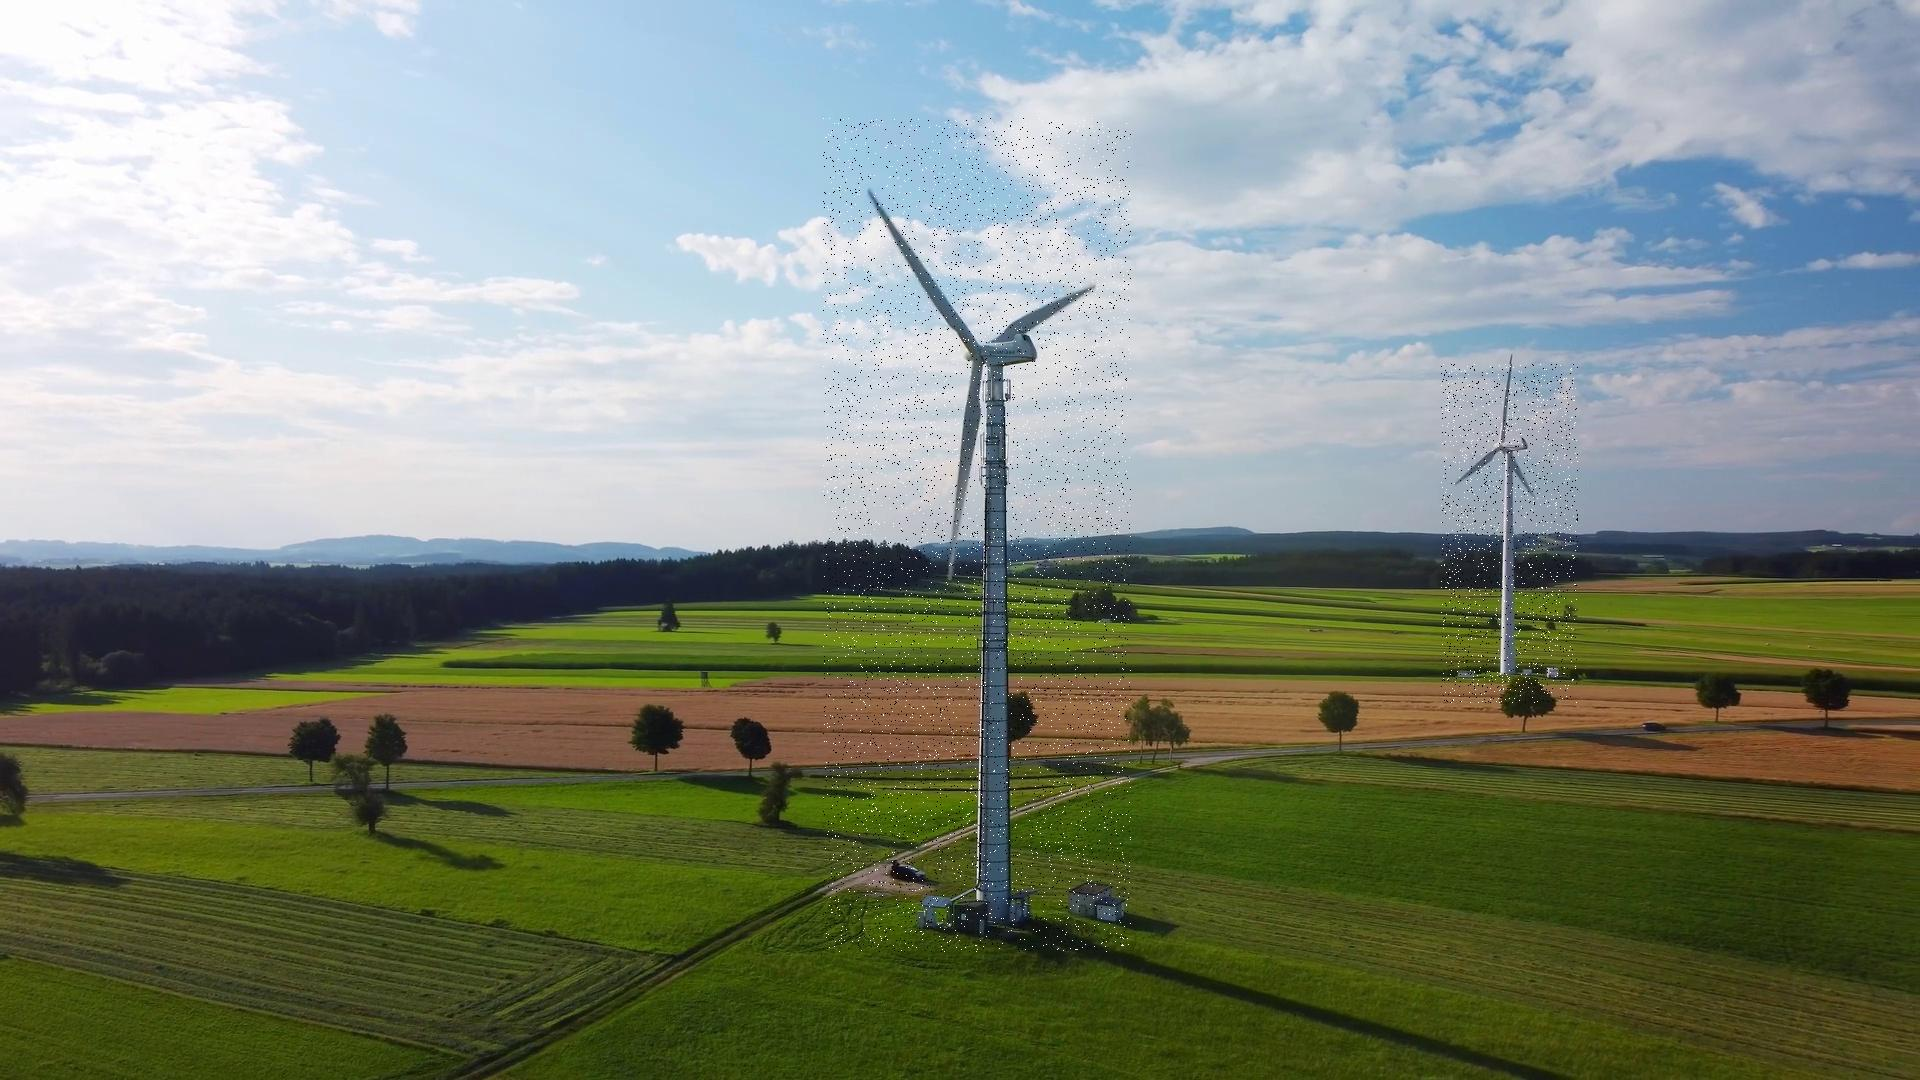turbine: (823, 119, 1131, 952), (1440, 364, 1577, 703)
